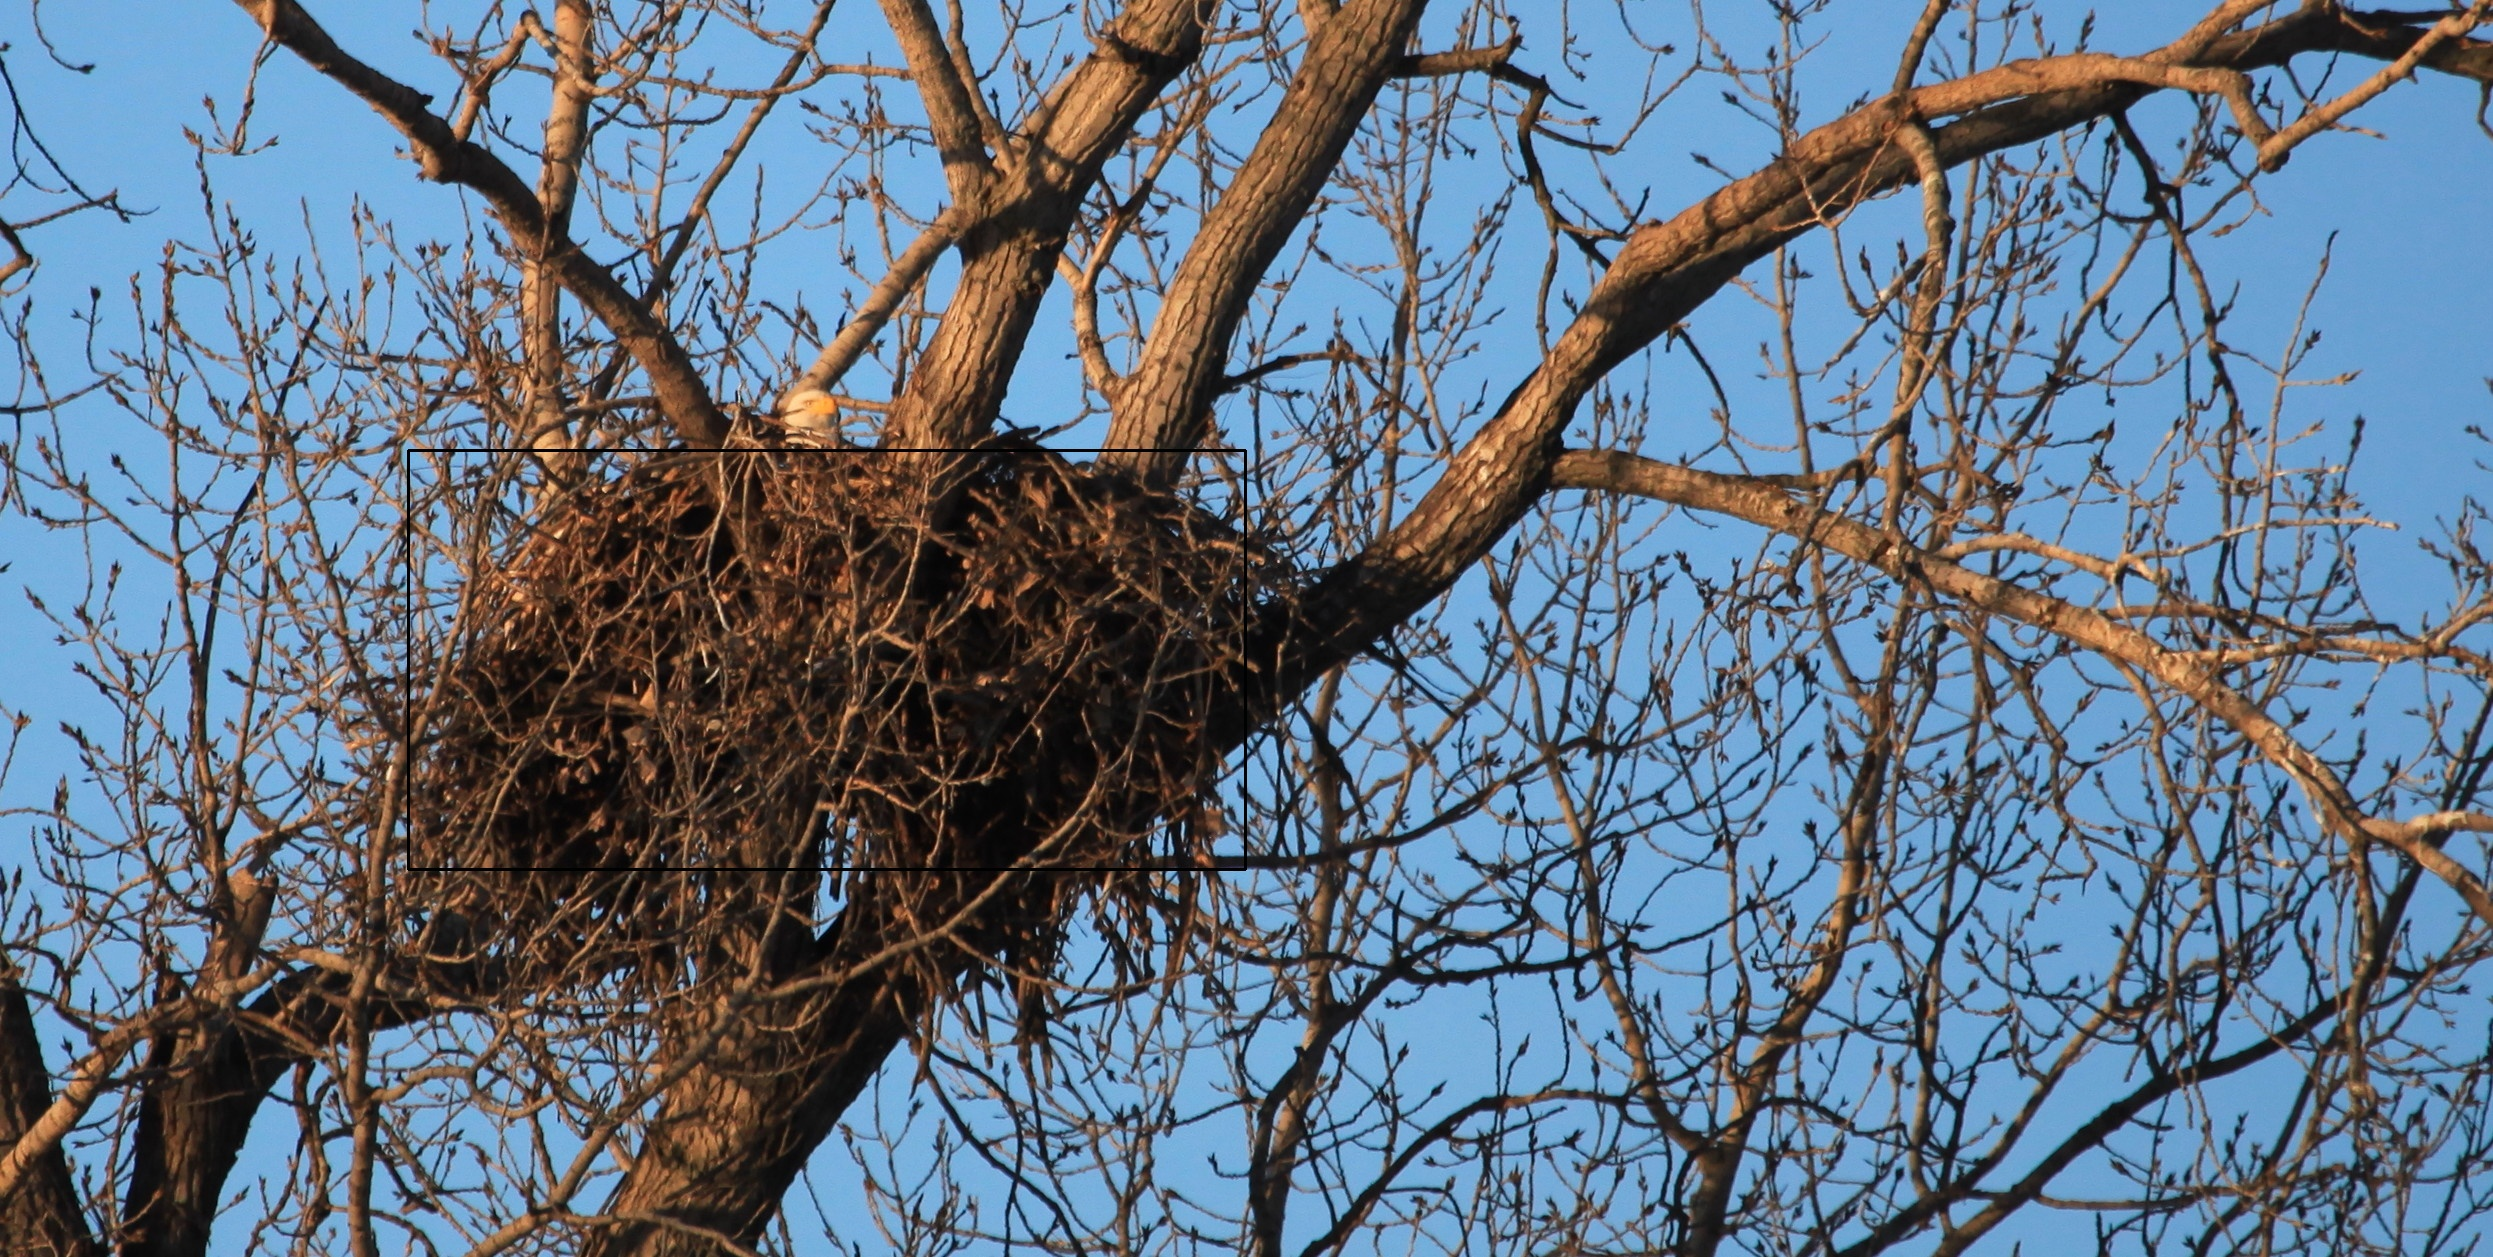bird-nest: (407, 451, 1246, 869)
